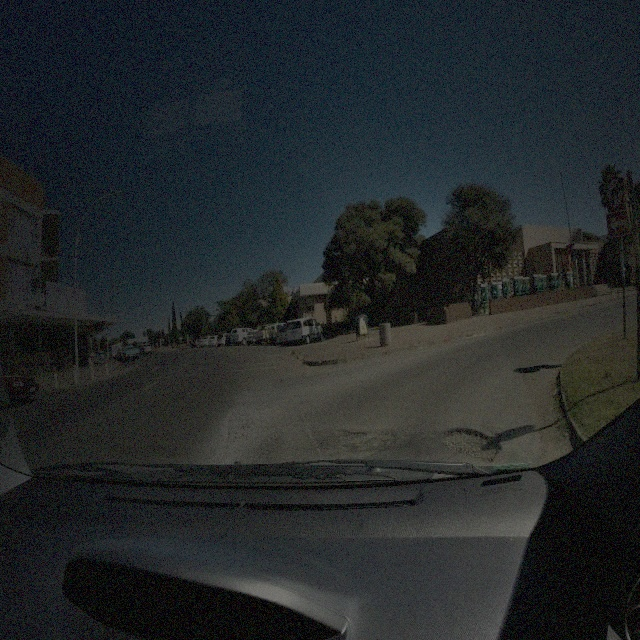pothole: (443, 423, 500, 463), (334, 423, 398, 451)
